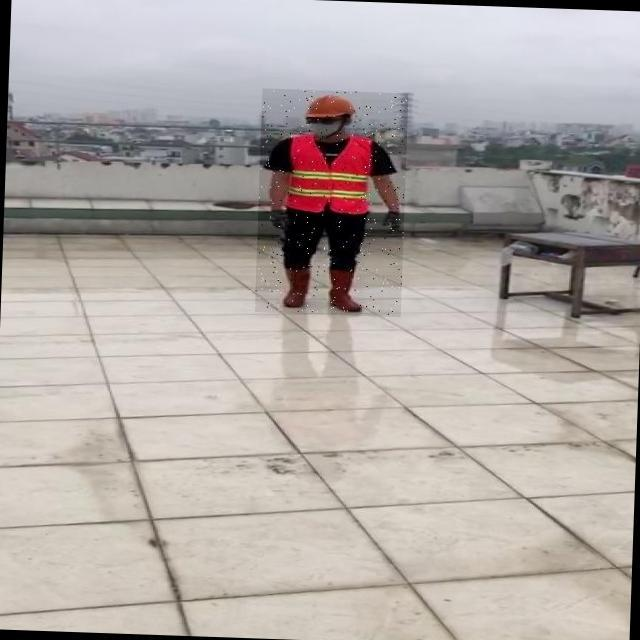Gloves: (266, 208, 289, 231), (384, 210, 403, 229)
Helmet: (301, 92, 357, 118)
Human: (254, 88, 408, 317)
Safety Boot: (327, 266, 368, 312), (280, 267, 311, 308)
Safety Vest: (286, 134, 369, 212)
